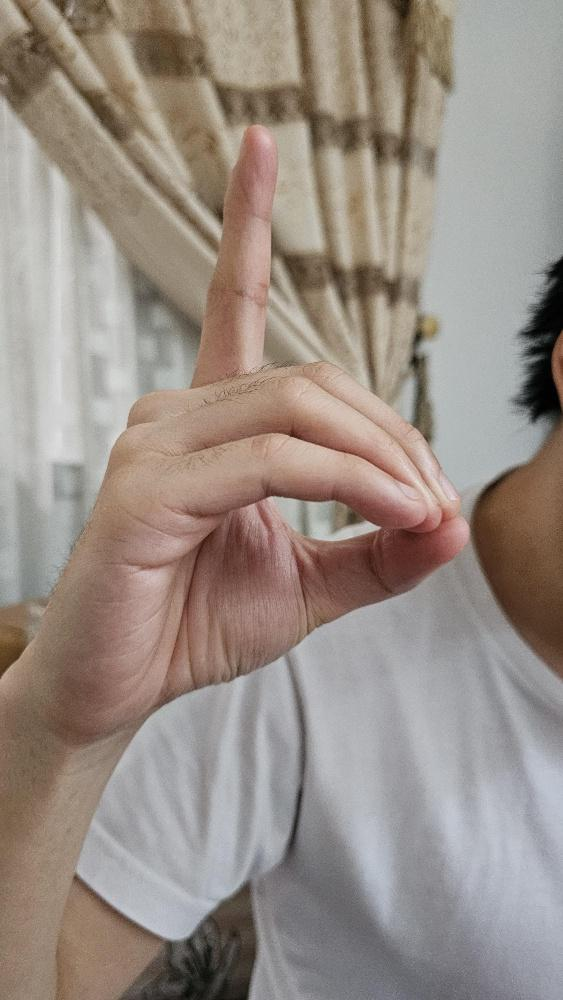d: (36, 121, 473, 741)
